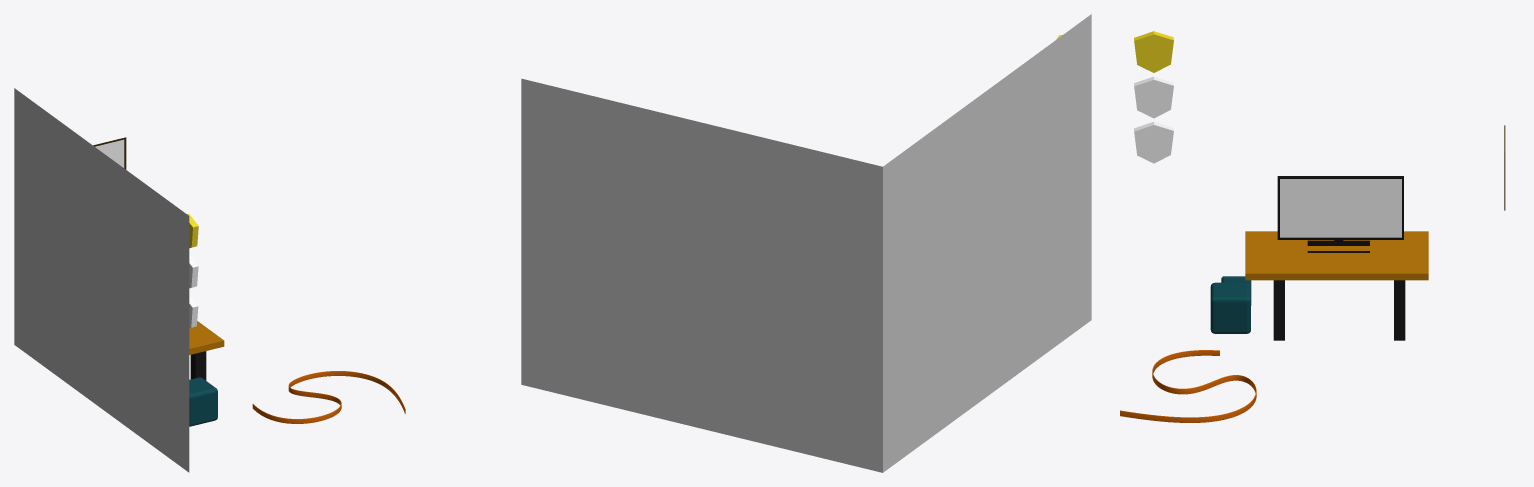
The model's file is room developer.glb.
The picture shows the model from 3 angles, left to right: view 1: azimuth 30°, elevation 25°; view 2: azimuth 150°, elevation 25°; view 3: azimuth 270°, elevation 25°; orthographic projection. The views are drawn at different scales.
Parts seen in each view (by area): view 1: Cube, cinturon, Roundcube, Cube.005, 128ed8fe-83f9-462d-baba-7a3b5e6537d7; view 2: Cube; view 3: Cube.006, Cube.005, Roundcube, cinturon, escudo.002, escudo.001, escudo.003, Cube.004, Cube.002.
Boxes of the visible parts, box(x1,y1,x2,y2) form: Cube: box(14, 88, 189, 472); cinturon: box(252, 371, 405, 423); Roundcube: box(189, 377, 217, 426); Cube.005: box(189, 321, 224, 354); 128ed8fe-83f9-462d-baba-7a3b5e6537d7: box(93, 137, 126, 169); Cube: box(521, 14, 1091, 472); Cube.006: box(1277, 176, 1403, 252); Cube.005: box(1245, 231, 1428, 280); Roundcube: box(1210, 282, 1250, 333); cinturon: box(1120, 350, 1256, 422); escudo.002: box(1134, 76, 1173, 118); escudo.001: box(1134, 121, 1173, 163); escudo.003: box(1134, 31, 1173, 72); Cube.004: box(1394, 280, 1405, 340); Cube.002: box(1273, 280, 1284, 340).
Bounding box in the file's own units: 19.64 × 15.89 × 19.78.
11 materials, 3 textured.
